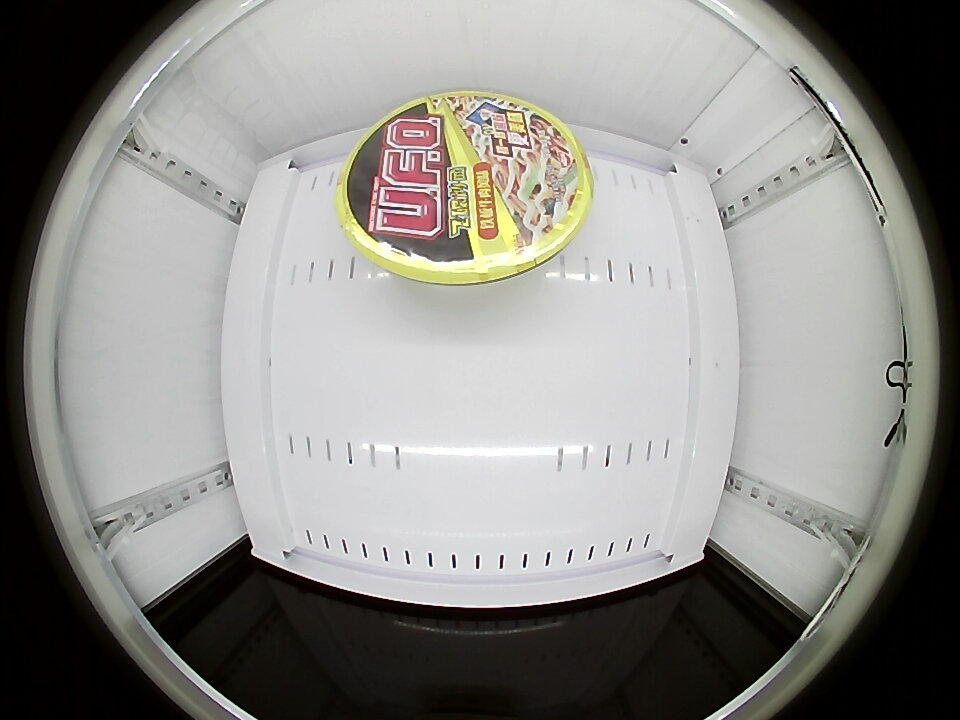ufo: (337, 91, 595, 285)
